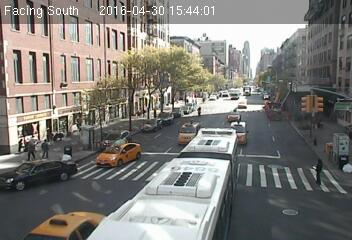neg: (175, 164, 197, 194), (331, 132, 351, 159), (297, 92, 316, 117), (56, 140, 75, 164), (264, 102, 281, 124), (194, 103, 207, 120), (236, 99, 247, 114)
pos: (306, 156, 330, 187), (21, 134, 42, 163), (37, 138, 54, 161)
